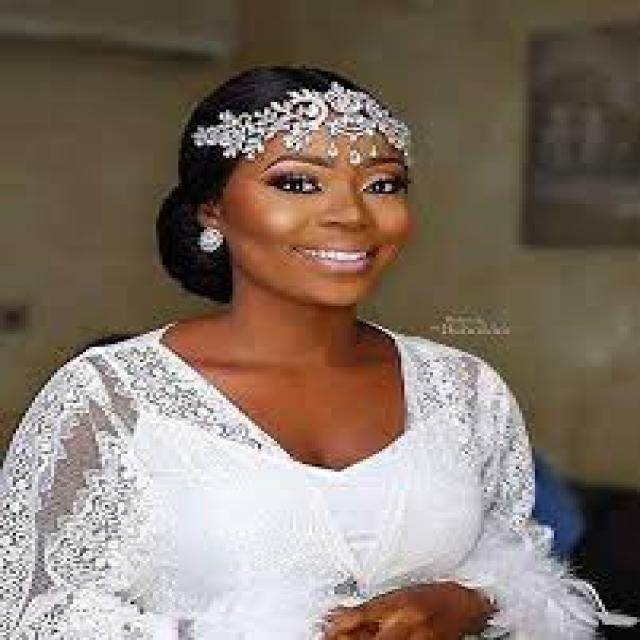Earring: (188, 223, 234, 256)
